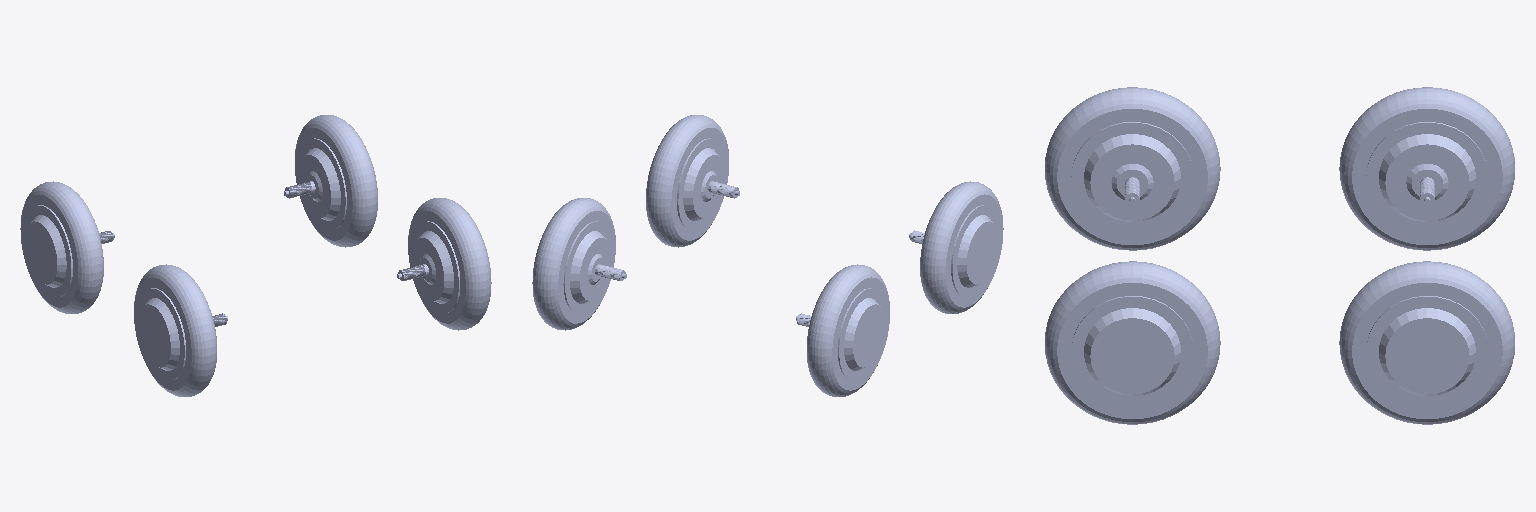
URDF robot description (second_ROS_assembly):
<?xml version="1.0" encoding="utf-8"?>
<!-- This URDF was automatically created by SolidWorks to URDF Exporter! Originally created by [author] ([email redacted]) 
     Commit Version: 1.6.0-4-g7f85cfe  Build Version: 1.6.7995.38578
     For more information, please see http://wiki.ros.org/sw_urdf_exporter -->
<robot
  name="second_ROS_assembly">
  <!-- <link name="dummy">
</link> -->
  <link
    name="base_link">
    <inertial>
      <origin
        xyz="0.0238527736757131 0.0302575884346185 0.0164525455897387"
        rpy="0 0 0" />
      <mass
        value="6.96014582154472" />
      <inertia
        ixx="0.157010845871244"
        ixy="-6.80636251973468E-08"
        ixz="3.31436115155446E-07"
        iyy="0.175527368223199"
        iyz="4.79183052933669E-06"
        izz="0.0245899285236148" />
    </inertial>
    <visual>
      <origin
        xyz="0 0 0"
        rpy="0 0 0" />
      <geometry>
        <mesh
          filename="package://second_ROS_assembly/meshes/base_link.STL" />
      </geometry>
      <material
        name="">
        <color
          rgba="0.792156862745098 0.819607843137255 0.933333333333333 1" />
      </material>
    </visual>
    <collision>
      <origin
        xyz="0 0 0"
        rpy="0 0 0" />
      <geometry>
        <mesh
          filename="package://second_ROS_assembly/meshes/base_link.STL" />
      </geometry>
    </collision>
  </link>
  <!-- <joint name="dummy_joint" type="fixed">
    <parent link="dummy"/>
    <child link="base_link"/>
  </joint> -->
  <link
    name="wheel_front_right_link">
    <inertial>
      <origin
        xyz="-0.0834233166879348 -4.79039784784252E-08 -2.71688332942333E-08"
        rpy="0 0 0" />
      <mass
        value="1.35623582745475" />
      <inertia
        ixx="0.00503725325146757"
        ixy="4.28361326042855E-09"
        ixz="1.59097059465095E-09"
        iyy="0.00287898482201386"
        iyz="1.35148113423023E-10"
        izz="0.00287898465692789" />
    </inertial>
    <visual>
      <origin
        xyz="0 0 0"
        rpy="0 0 0" />
      <geometry>
        <mesh
          filename="package://second_ROS_assembly/meshes/wheel_front_right_link.STL" />
      </geometry>
      <material
        name="">
        <color
          rgba="0.792156862745098 0.819607843137255 0.933333333333333 1" />
      </material>
    </visual>
    <collision>
      <origin
        xyz="0 0 0"
        rpy="0 0 0" />
      <geometry>
        <mesh
          filename="package://second_ROS_assembly/meshes/wheel_front_right_link.STL" />
      </geometry>
    </collision>
  </link>
  <joint
    name="wheel_front_right_joint"
    type="continuous">
    <origin
      xyz="-0.13938 0.16 0.04"
      rpy="1.5708 0 0" />
    <parent
      link="base_link" />
    <child
      link="wheel_front_right_link" />
    <axis
      xyz="1 0 0" />
  </joint>
  <link
    name="wheel_front_left_link">
    <inertial>
      <origin
        xyz="-0.0834233166894094 -4.79047695123302E-08 -2.71653393946192E-08"
        rpy="0 0 0" />
      <mass
        value="1.35623582740497" />
      <inertia
        ixx="0.00503725325146555"
        ixy="4.28366804414505E-09"
        ixz="1.59070561655519E-09"
        iyy="0.00287898482196187"
        iyz="1.34838665529045E-10"
        izz="0.00287898465682032" />
    </inertial>
    <visual>
      <origin
        xyz="0 0 0"
        rpy="0 0 0" />
      <geometry>
        <mesh
          filename="package://second_ROS_assembly/meshes/wheel_front_left_link.STL" />
      </geometry>
      <material
        name="">
        <color
          rgba="0.792156862745098 0.819607843137255 0.933333333333333 1" />
      </material>
    </visual>
    <collision>
      <origin
        xyz="0 0 0"
        rpy="0 0 0" />
      <geometry>
        <mesh
          filename="package://second_ROS_assembly/meshes/wheel_front_left_link.STL" />
      </geometry>
    </collision>
  </link>
  <joint
    name="wheel_front_left_joint"
    type="continuous">
    <origin
      xyz="0.13938 0.16 0.04"
      rpy="1.5708 0 3.1416" />
    <parent
      link="base_link" />
    <child
      link="wheel_front_left_link" />
    <axis
      xyz="1 0 0" />
  </joint>
  <link
    name="wheel_back_right_link">
    <inertial>
      <origin
        xyz="-0.0834233168676585 -4.70153401974094E-08 -2.60275697383516E-08"
        rpy="0 0 0" />
      <mass
        value="1.35623582388937" />
      <inertia
        ixx="0.00503725325132272"
        ixy="4.21416379490867E-09"
        ixz="1.50749991857654E-09"
        iyy="0.00287898482281527"
        iyz="1.40880897856428E-10"
        izz="0.00287898462354608" />
    </inertial>
    <visual>
      <origin
        xyz="0 0 0"
        rpy="0 0 0" />
      <geometry>
        <mesh
          filename="package://second_ROS_assembly/meshes/wheel_back_right_link.STL" />
      </geometry>
      <material
        name="">
        <color
          rgba="0.792156862745098 0.819607843137255 0.933333333333333 1" />
      </material>
    </visual>
    <collision>
      <origin
        xyz="0 0 0"
        rpy="0 0 0" />
      <geometry>
        <mesh
          filename="package://second_ROS_assembly/meshes/wheel_back_right_link.STL" />
      </geometry>
    </collision>
  </link>
  <joint
    name="wheel_back_right_joint"
    type="continuous">
    <origin
      xyz="-0.13938 -0.16 0.04"
      rpy="1.5708 0 0" />
    <parent
      link="base_link" />
    <child
      link="wheel_back_right_link" />
    <axis
      xyz="1 0 0" />
  </joint>
  <link
    name="wheel_back_left_link">
    <inertial>
      <origin
        xyz="-0.0834233172078751 -4.71900903145639E-08 -2.76032373902613E-08"
        rpy="0 0 0" />
      <mass
        value="1.35623581476376" />
      <inertia
        ixx="0.00503725325095133"
        ixy="4.22946349929477E-09"
        ixz="1.62441486526651E-09"
        iyy="0.00287898477281409"
        iyz="1.37578130609984E-10"
        izz="0.00287898462478865" />
    </inertial>
    <visual>
      <origin
        xyz="0 0 0"
        rpy="0 0 0" />
      <geometry>
        <mesh
          filename="package://second_ROS_assembly/meshes/wheel_back_left_link.STL" />
      </geometry>
      <material
        name="">
        <color
          rgba="0.792156862745098 0.819607843137255 0.933333333333333 1" />
      </material>
    </visual>
    <collision>
      <origin
        xyz="0 0 0"
        rpy="0 0 0" />
      <geometry>
        <mesh
          filename="package://second_ROS_assembly/meshes/wheel_back_left_link.STL" />
      </geometry>
    </collision>
  </link>
  <joint
    name="wheel_back_left_joint"
    type="continuous">
    <origin
      xyz="0.13938 -0.16 0.04"
      rpy="1.5708 0 3.1416" />
    <parent
      link="base_link" />
    <child
      link="wheel_back_left_link" />
    <axis
      xyz="1 0 0" />
  </joint>
</robot>

--- Facts derived from the render (not from the file) ---
3 views of the same robot in one strip: view 1: azimuth 30°, elevation 25°; view 2: azimuth 150°, elevation 25°; view 3: azimuth 270°, elevation 25° (orthographic).
Model second_ROS_assembly with 5 links and 4 joints (4 continuous), rooted at base_link, posed every joint at zero.
Visible links, largest first — view 1: wheel_back_left_link, wheel_front_right_link, wheel_front_left_link, wheel_back_right_link; view 2: wheel_back_left_link, wheel_front_right_link, wheel_front_left_link, wheel_back_right_link; view 3: wheel_front_left_link, wheel_back_right_link, wheel_front_right_link, wheel_back_left_link.
Boxes of the visible links, x1,y1,x2,y2 form: wheel_back_left_link: [397, 198, 491, 330]; wheel_front_right_link: [20, 181, 114, 313]; wheel_front_left_link: [284, 115, 377, 247]; wheel_back_right_link: [134, 264, 227, 396]; wheel_back_left_link: [646, 115, 739, 247]; wheel_front_right_link: [796, 264, 889, 396]; wheel_front_left_link: [532, 198, 626, 330]; wheel_back_right_link: [909, 181, 1003, 313]; wheel_front_left_link: [1339, 261, 1514, 424]; wheel_back_right_link: [1045, 87, 1220, 250]; wheel_front_right_link: [1339, 87, 1514, 250]; wheel_back_left_link: [1045, 261, 1220, 424].
Size in the robot's own frame: 0.5152 by 0.5111 by 0.1911 metres.
4 mesh visuals loaded from 5 distinct referenced files (4 binary STL); not drawn: 1 (reference not matched to a file when rendering).
